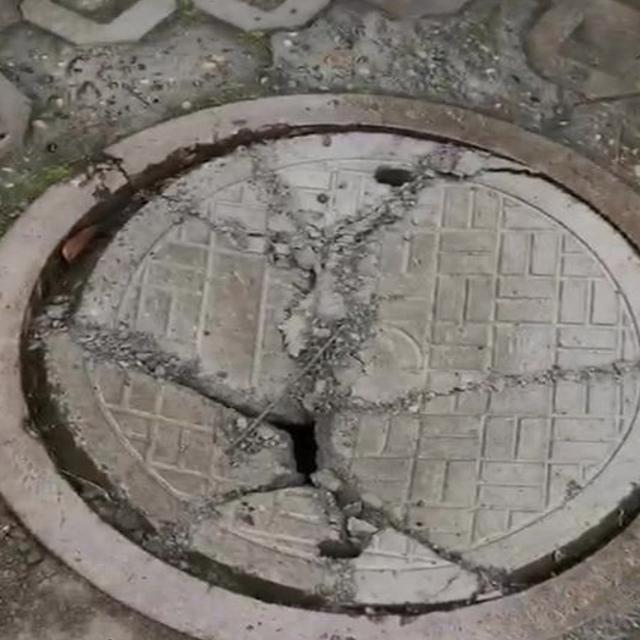broke: (0, 102, 640, 640)
